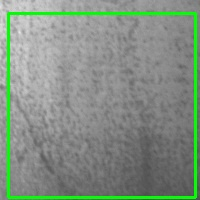pitted_surface: (8, 13, 195, 197)
